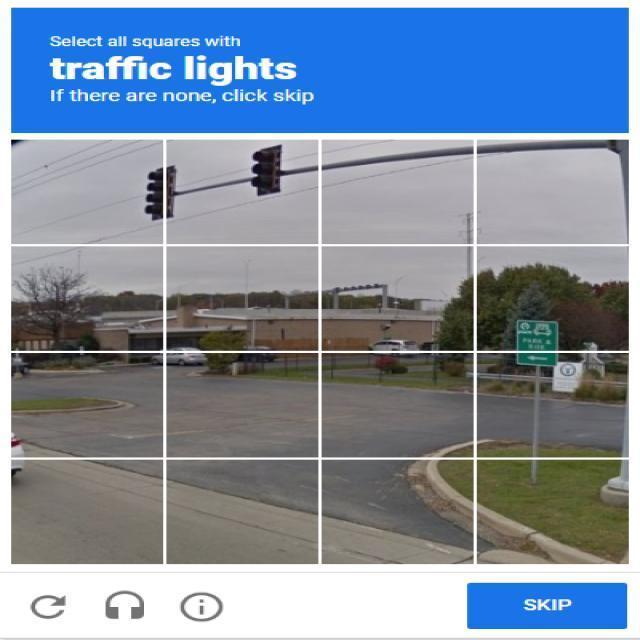traffic-lights: (247, 149, 285, 204), (141, 168, 177, 221)
